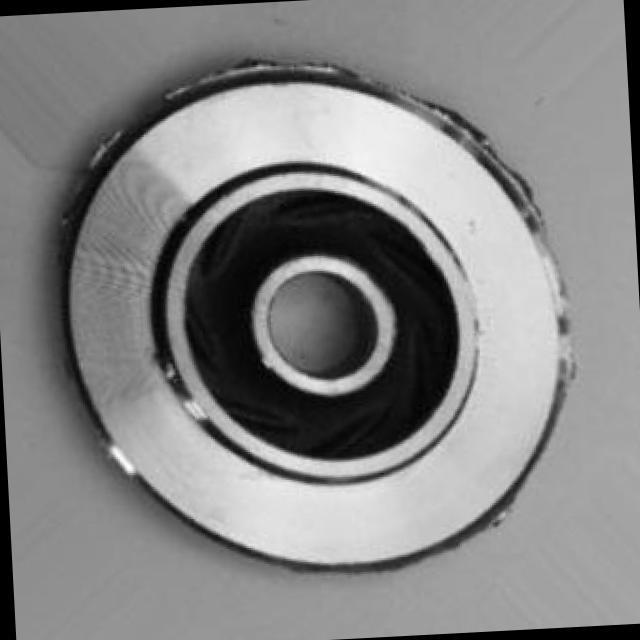Defect: (229, 44, 287, 82)
